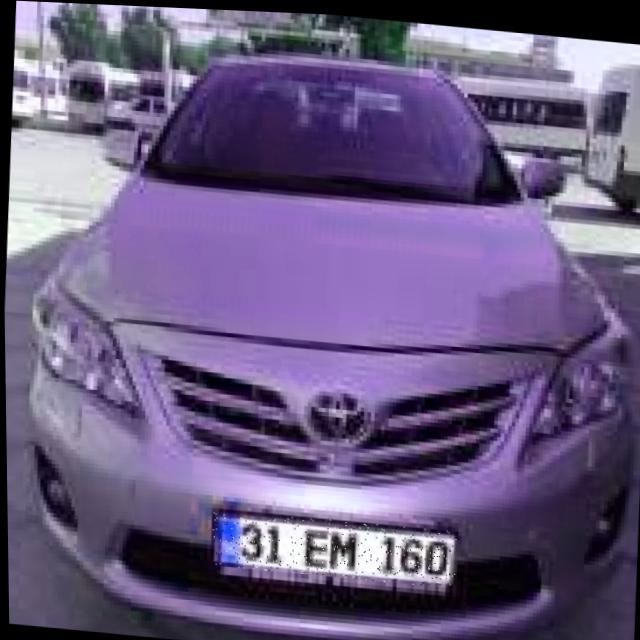license_plate: (209, 506, 456, 585)
